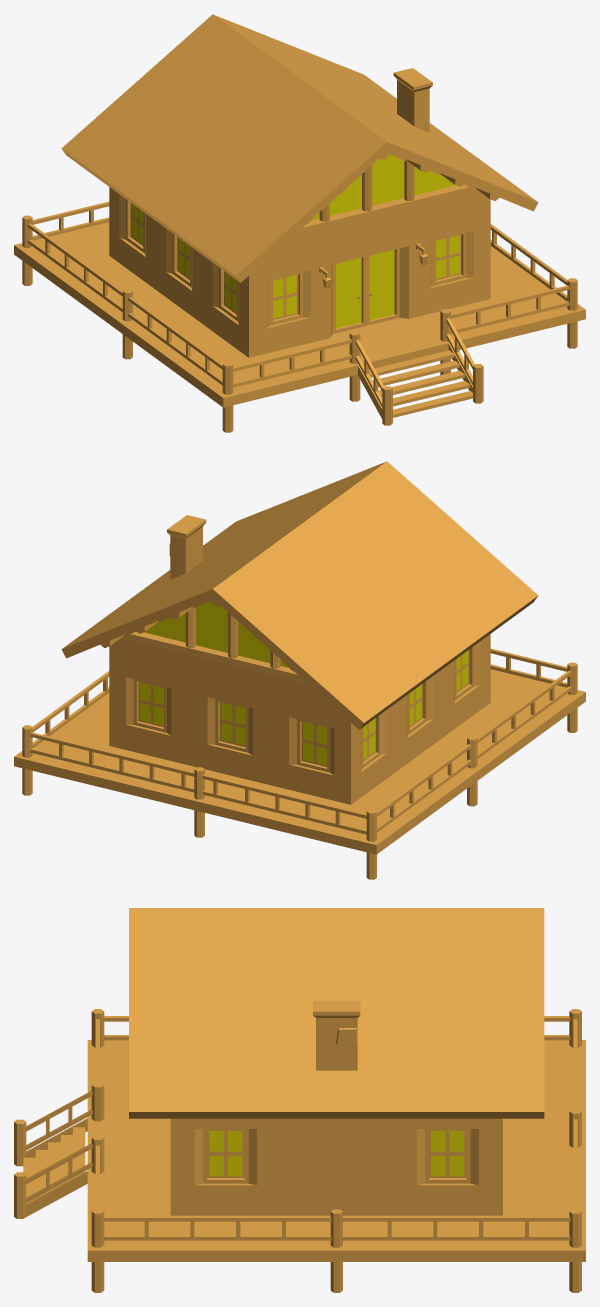
The model's file is Building_21.fbx.
3 views of the same model, one above another, from view 1: azimuth 30°, elevation 25°; view 2: azimuth 150°, elevation 25°; view 3: azimuth 270°, elevation 25° (orthographic). The views are drawn at different scales.
Parts seen in each view (by area): view 1: building-cabin-big; view 2: building-cabin-big; view 3: building-cabin-big.
Boxes of the visible parts, left/top/right/bottom form: building-cabin-big: left=14, top=14, right=585, bottom=432; building-cabin-big: left=14, top=461, right=585, bottom=879; building-cabin-big: left=14, top=908, right=585, bottom=1292.
Bounding box in the file's own units: 3.84 × 2.4 × 4.4.
